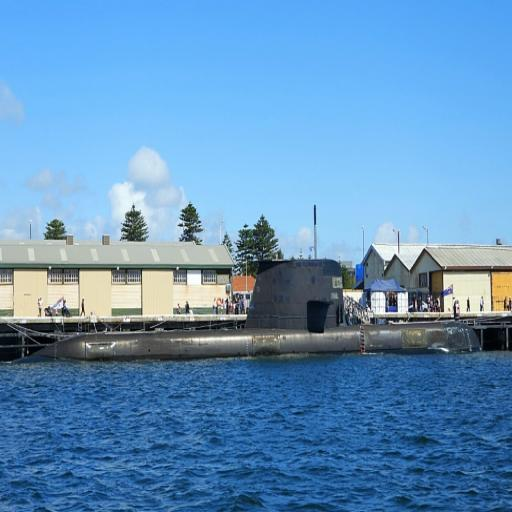submarine: (2, 197, 484, 356)
